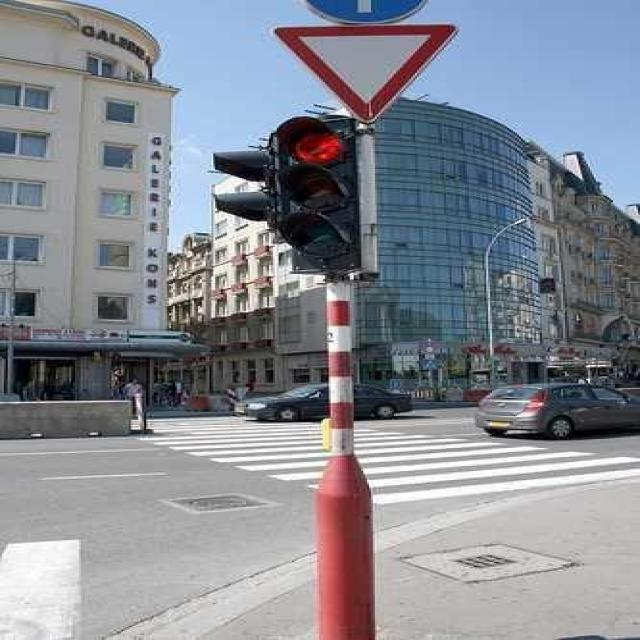Traffic Light -Red-: (279, 111, 363, 268)
